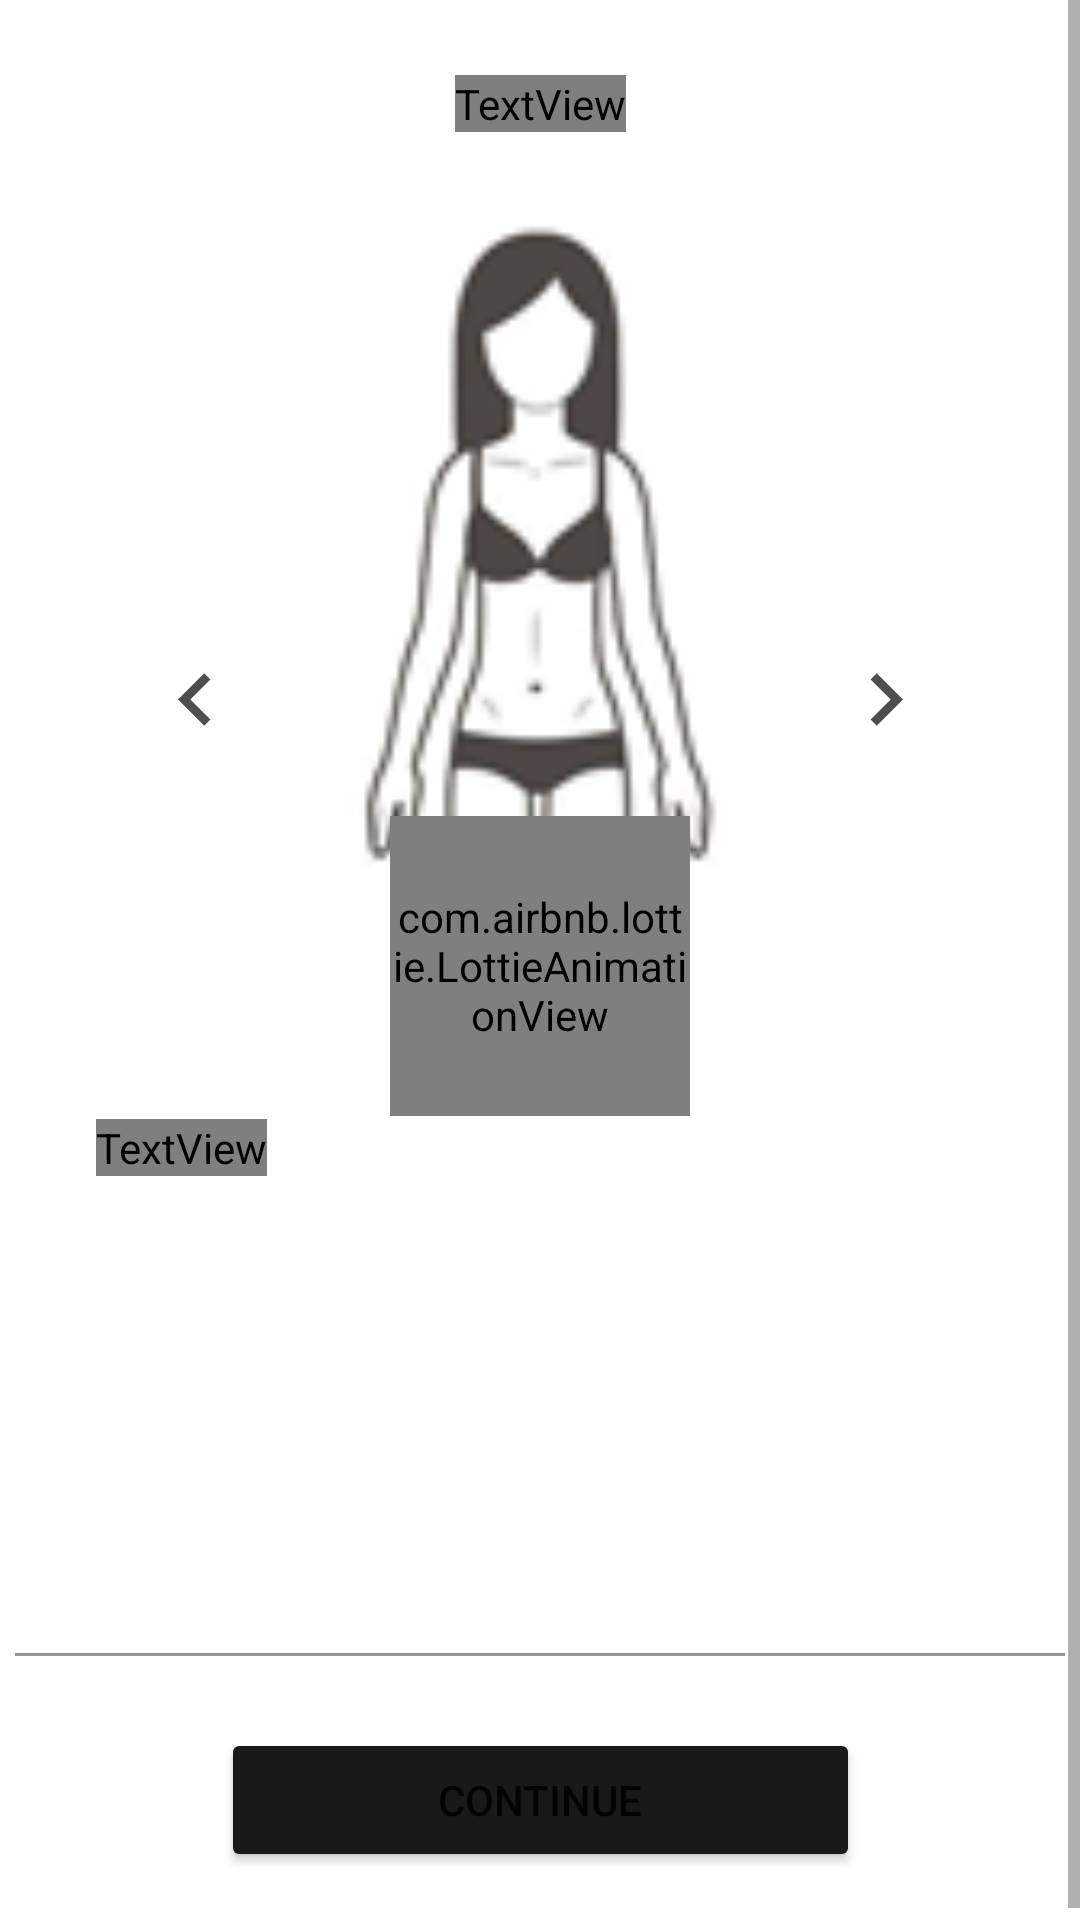

Icon bounding boxes for this 1080x1920 phone screenshot, format (x1, y1, x2, y2):
left: (178, 673, 211, 726)
right: (870, 673, 903, 726)
